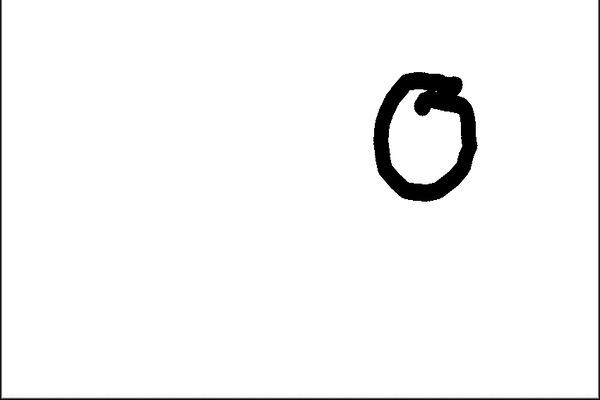O: (360, 54, 495, 213)
